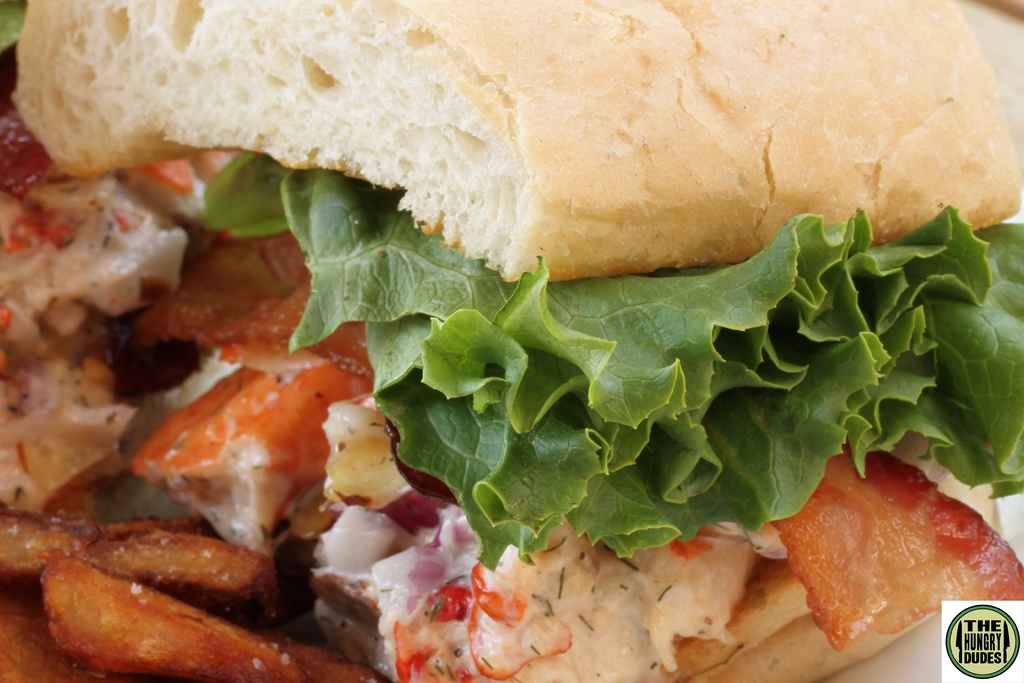salad: (0, 41, 1024, 683)
